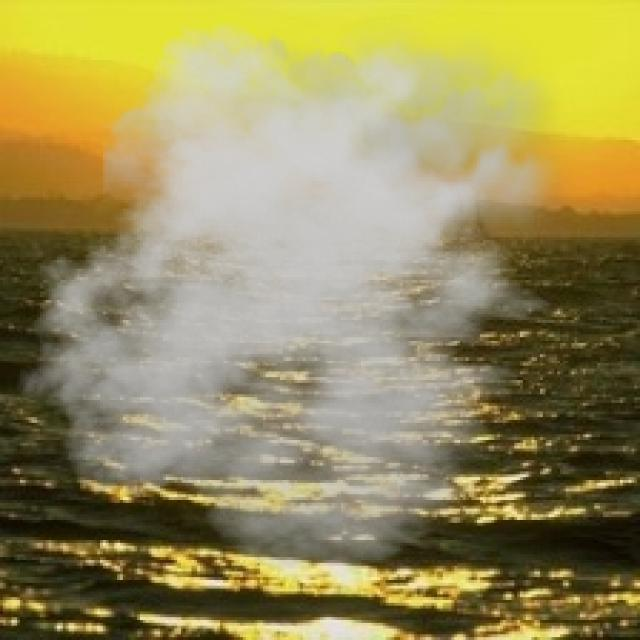smoke: (17, 6, 586, 571)
